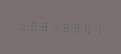eight: (39, 18, 49, 33), (61, 20, 71, 34)
five: (17, 17, 27, 32)
four: (50, 19, 60, 33)
nine: (72, 20, 82, 35)
one: (94, 21, 104, 36)
zero: (28, 18, 38, 32), (83, 21, 93, 35)
